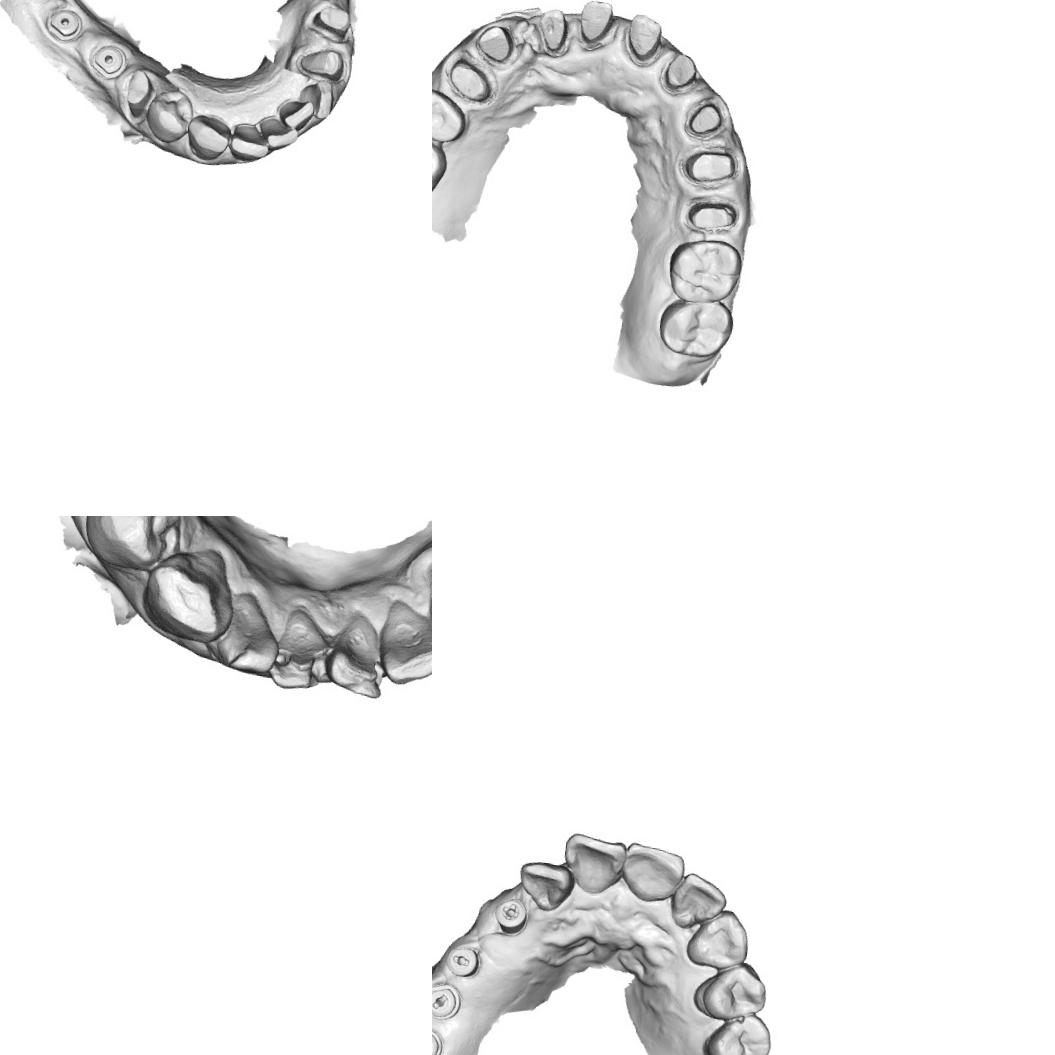canine: (142, 552, 237, 646), (683, 902, 754, 973), (183, 112, 234, 164)
crown: (618, 10, 670, 68), (678, 144, 741, 189), (443, 54, 497, 106), (532, 4, 576, 62), (574, 0, 620, 51), (682, 196, 740, 236), (470, 19, 518, 66), (657, 48, 702, 98), (682, 96, 728, 142), (119, 66, 156, 122), (296, 43, 348, 82), (310, 1, 354, 38)
implant: (86, 40, 130, 81), (45, 4, 86, 44)
implant_minus: (441, 940, 484, 982), (432, 980, 462, 1021), (432, 1023, 447, 1055)
implant_plus: (490, 892, 530, 939)
incisor: (322, 612, 392, 704), (270, 610, 342, 696), (213, 598, 286, 682), (377, 597, 432, 693), (617, 841, 689, 912), (557, 830, 629, 899), (668, 868, 731, 934), (514, 855, 576, 914), (226, 120, 273, 164), (294, 77, 336, 122), (256, 114, 300, 152), (275, 97, 318, 134)
molar: (662, 232, 746, 308), (654, 295, 737, 362), (432, 122, 453, 207)
premolar: (78, 516, 187, 576), (696, 958, 774, 1028), (698, 1007, 779, 1055), (142, 84, 198, 148), (432, 85, 471, 147)
